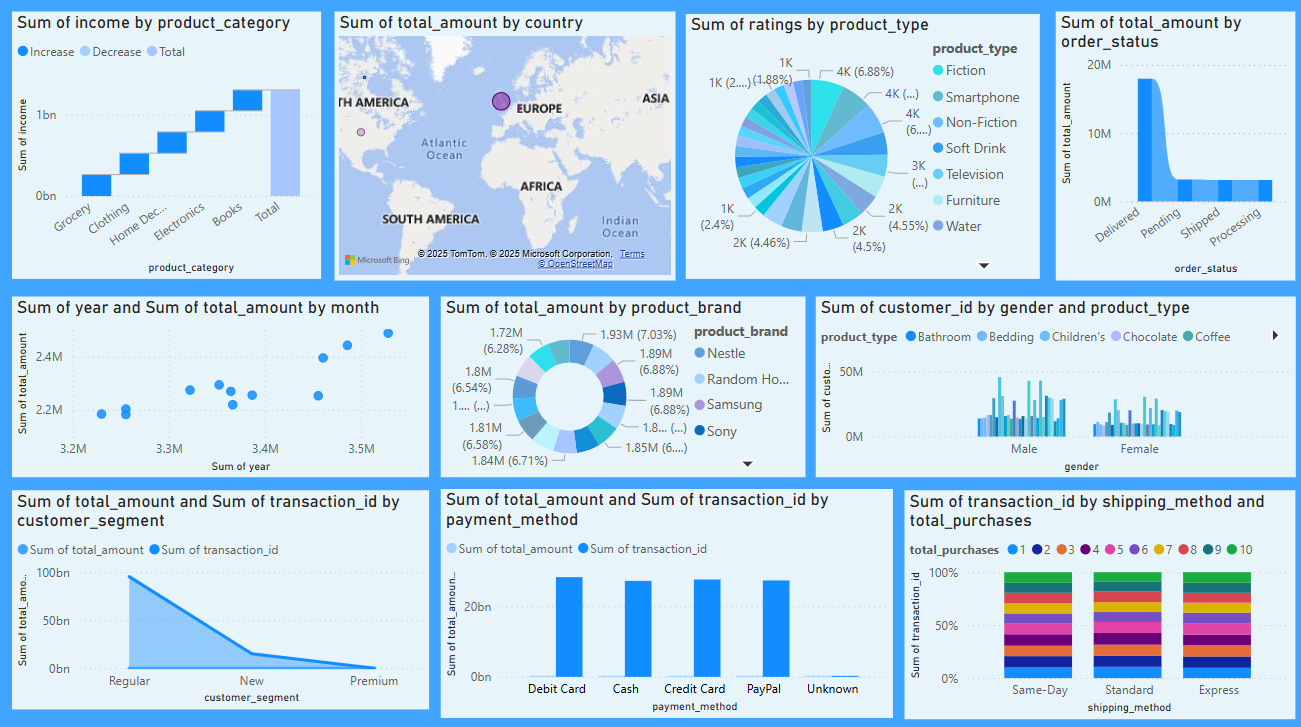

What the dashboard file says about the page in this screenshot:
{"tool":"powerbi","page":{"name":"Page 1","canvas":[1280,720],"ordinal":0},"visuals":[{"type":"waterfallChart","title":"Total revenue by product category","fields":{"Y":["Sum(Final retail segment 2.income)"],"Category":["Final retail segment 2.product_category"]},"box":[14.1,16.7,302.6,261.5],"z":0},{"type":"scatterChart","title":"Monthly revenue trend","fields":{"Y":["Sum(Final retail segment 2.total_amount)"],"X":["Sum(Final retail segment 2.year)"],"Category":["Final retail segment 2.month"]},"box":[14.1,296.2,407.7,176.9],"z":1000},{"type":"stackedAreaChart","title":"Customer segment performance","fields":{"Category":["Final retail segment 2.customer_segment"],"Y":["Sum(Final retail segment 2.total_amount)","Sum(Final retail segment 2.transaction_id)"]},"box":[14.1,485.9,407.7,214.1],"z":2000},{"type":"donutChart","title":"Product brand by sales","fields":{"Category":["Final retail segment 2.product_brand"],"Y":["Sum(Final retail segment 2.total_amount)"]},"box":[434.6,296.2,356.4,176.9],"z":3000},{"type":"hundredPercentStackedColumnChart","title":"Shipping method preferences","fields":{"Category":["Final retail segment 2.shipping_method"],"Y":["Sum(Final retail segment 2.transaction_id)"],"Series":["Final retail segment 2.total_purchases"]},"box":[887.8,485.5,382.7,223.8],"z":4000},{"type":"ribbonChart","title":"Order status analysis","fields":{"Category":["Final retail segment 2.order_status"],"Y":["Sum(Final retail segment 2.total_amount)"]},"box":[1035.9,16.7,234.6,262.8],"z":5000},{"type":"clusteredColumnChart","title":"Revenue by payment method","fields":{"Category":["Final retail segment 2.payment_method"],"Y":["Sum(Final retail segment 2.total_amount)","Sum(Final retail segment 2.transaction_id)"]},"box":[434.1,484.2,442.7,223.8],"z":6000},{"type":"pieChart","title":"Rating analysis by product type","fields":{"Category":["Final retail segment 2.product_type"],"Y":["Sum(Final retail segment 2.ratings)"]},"box":[674.4,19.2,346.2,259],"z":7000},{"type":"clusteredColumnChart","title":"Customer distribution analysis","fields":{"Y":["Sum(Final retail segment 2.customer_id)"],"Category":["Final retail segment 2.gender"],"Series":["Final retail segment 2.product_type"]},"box":[801.3,296.2,469.2,176.9],"z":8000},{"type":"map","title":"\tAverage purchase amount by country:","fields":{"Category":["Final retail segment 2.country"],"Size":["Sum(Final retail segment 2.total_amount)"]},"box":[330.2,17.1,333.8,262.9],"z":9000}]}

Visuals, with their boxes in screenshot pixels (x1, y1, x2, y2), scaled from the page's 1280x720 canvas onto the 1301x727 screenshot:
"Total revenue by product category" waterfallChart: (14, 17, 322, 281)
"Monthly revenue trend" scatterChart: (14, 299, 429, 478)
"Customer segment performance" stackedAreaChart: (14, 491, 429, 707)
"Product brand by sales" donutChart: (442, 299, 804, 478)
"Shipping method preferences" hundredPercentStackedColumnChart: (902, 490, 1291, 716)
"Order status analysis" ribbonChart: (1053, 17, 1291, 282)
"Revenue by payment method" clusteredColumnChart: (441, 489, 891, 715)
"Rating analysis by product type" pieChart: (685, 19, 1037, 281)
"Customer distribution analysis" clusteredColumnChart: (814, 299, 1291, 478)
"	Average purchase amount by country:" map: (336, 17, 675, 283)
